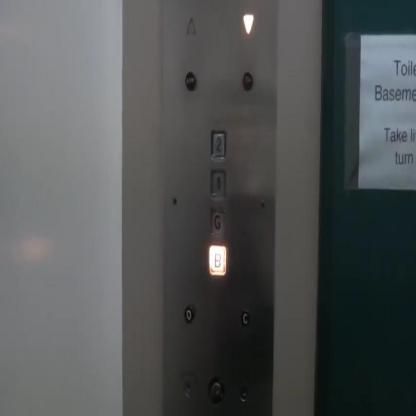1: (209, 167, 228, 200)
2: (210, 128, 226, 161)
B: (208, 244, 226, 276)
C: (240, 308, 250, 328)
G: (209, 206, 226, 238)
O: (184, 304, 194, 324)
blur: (184, 69, 196, 90), (242, 70, 253, 91), (238, 384, 248, 402), (183, 382, 192, 399)
keyhole: (207, 376, 225, 403)
